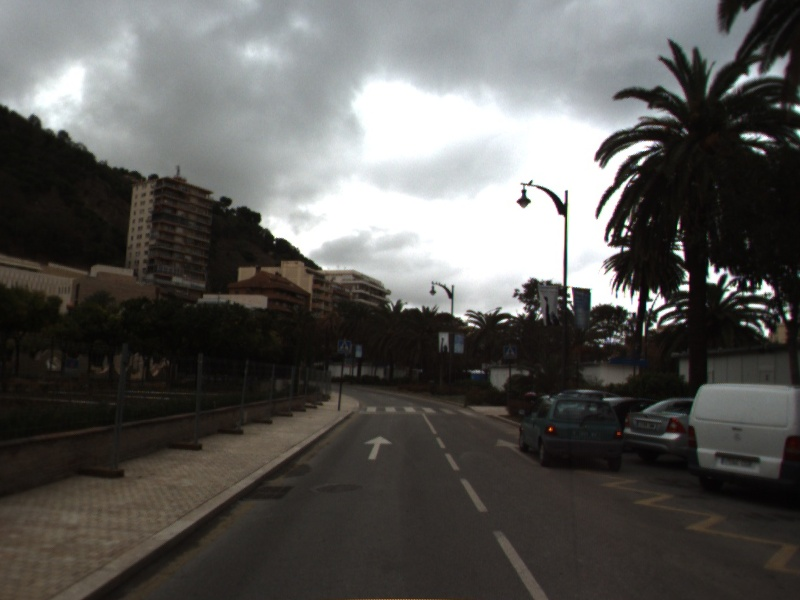STRAIGHT: (494, 436, 543, 467), (361, 434, 395, 461)
